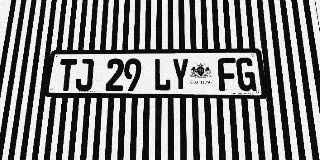2: (105, 58, 124, 91)
9: (123, 58, 141, 91)
F: (217, 58, 237, 91)
G: (236, 58, 256, 91)
J: (75, 59, 94, 91)
L: (153, 58, 171, 91)
T: (57, 59, 77, 91)
Y: (172, 58, 189, 91)
